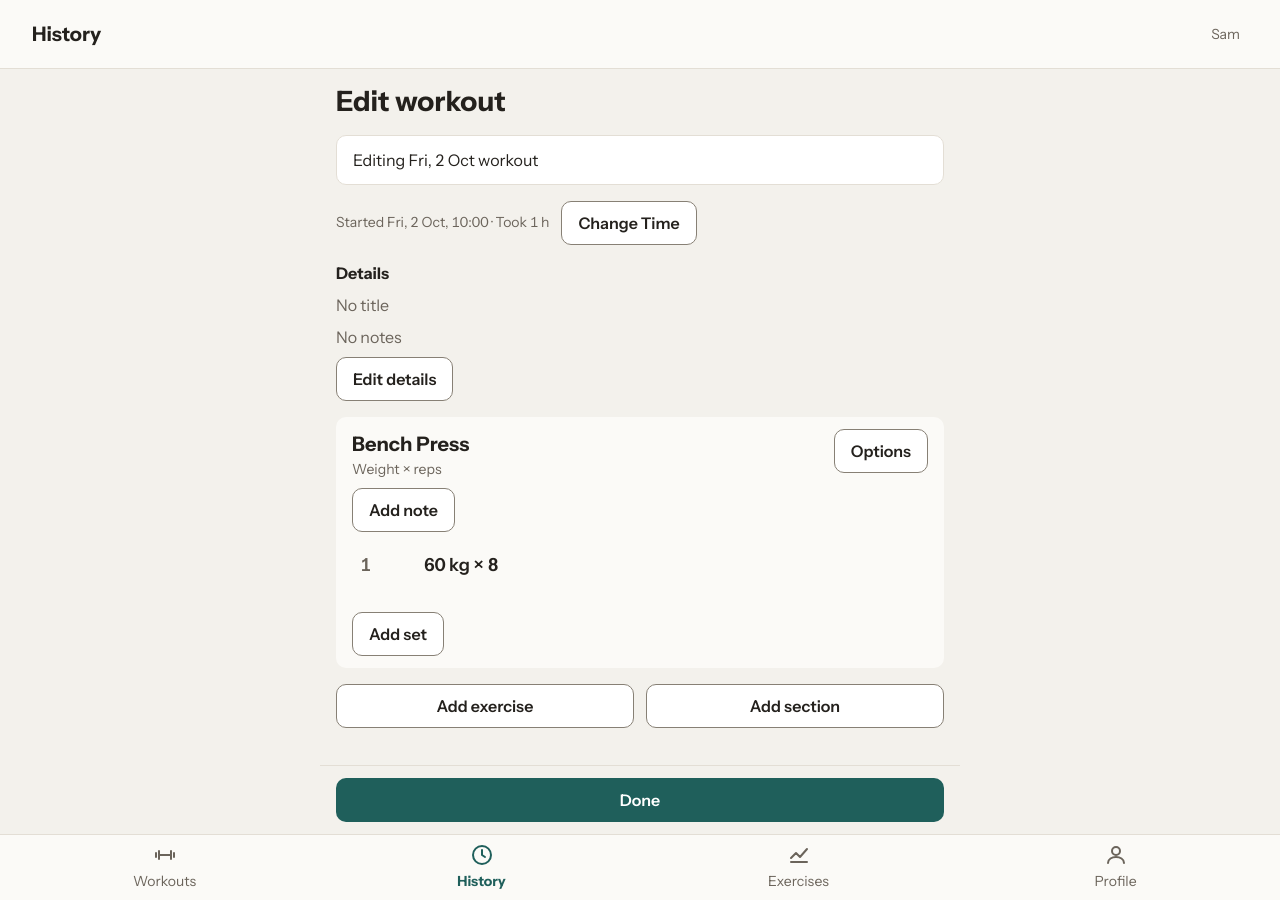
it: 18.0 AC12 — exercise notes wait for the server › DM-12 — a save in flight keeps the sheet open: Cancel, Close and Escape wait, and a failure shows in the sheet
Expected: the heading "Edit workout" is shown, [336, 84, 506, 118]
Click the button with aria-label "Add note for Bench Press".
click(403, 510)  # box [352, 488, 455, 532]
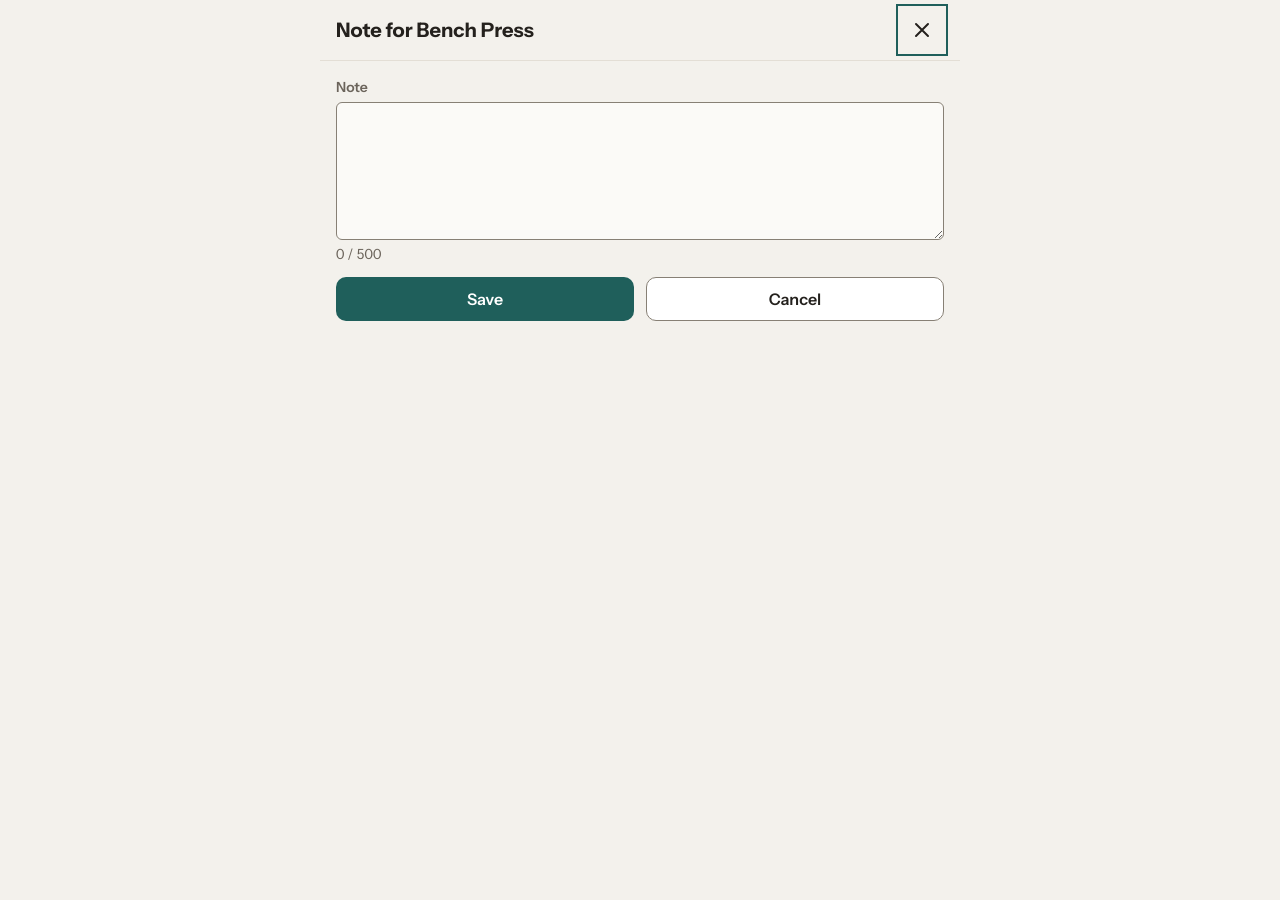
Type "Slow eccentric" into the text box labelled "Note".
click(640, 171); type("Slow eccentric")  # box [336, 102, 944, 240]
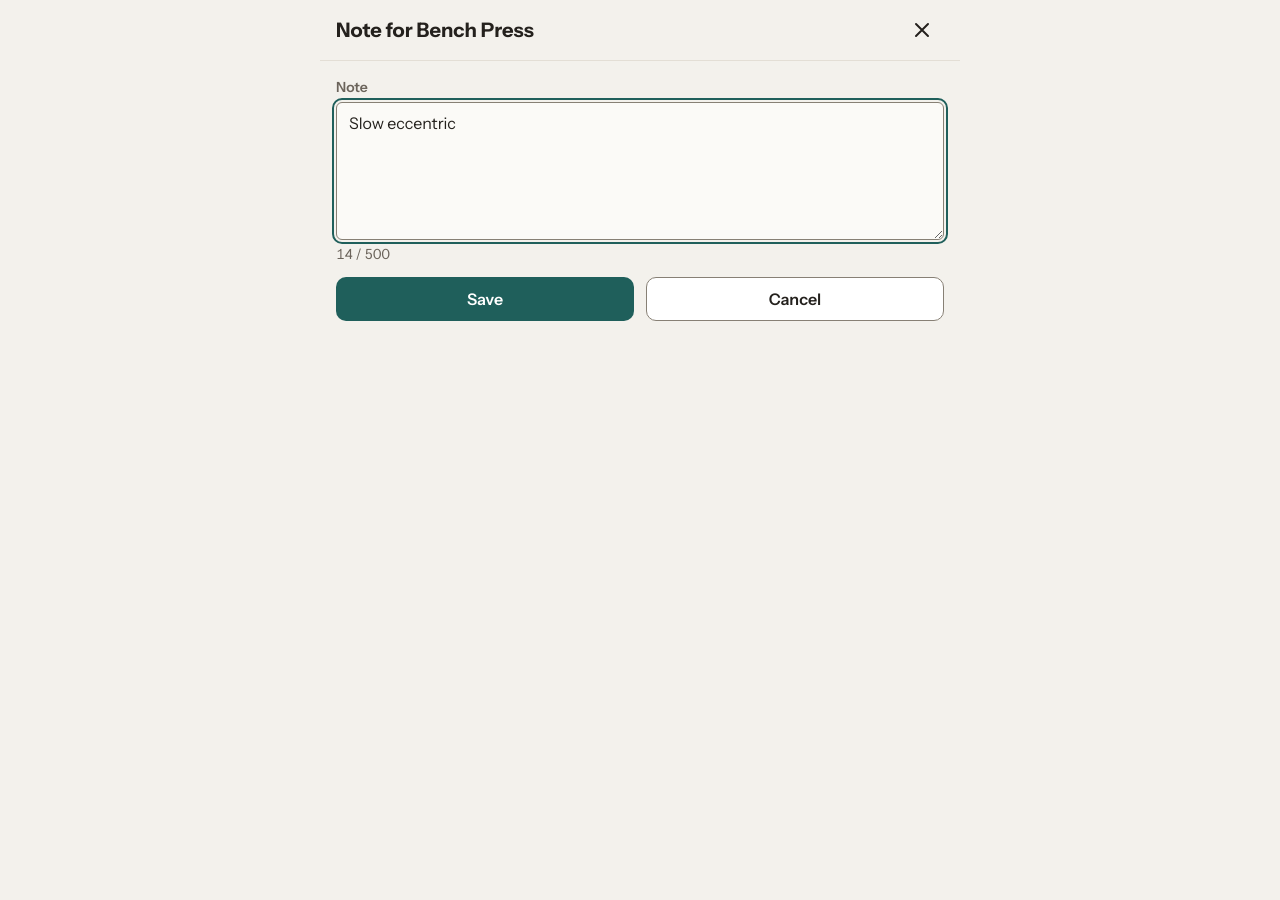
Click the button "Save".
click(485, 299)  # box [336, 277, 634, 321]
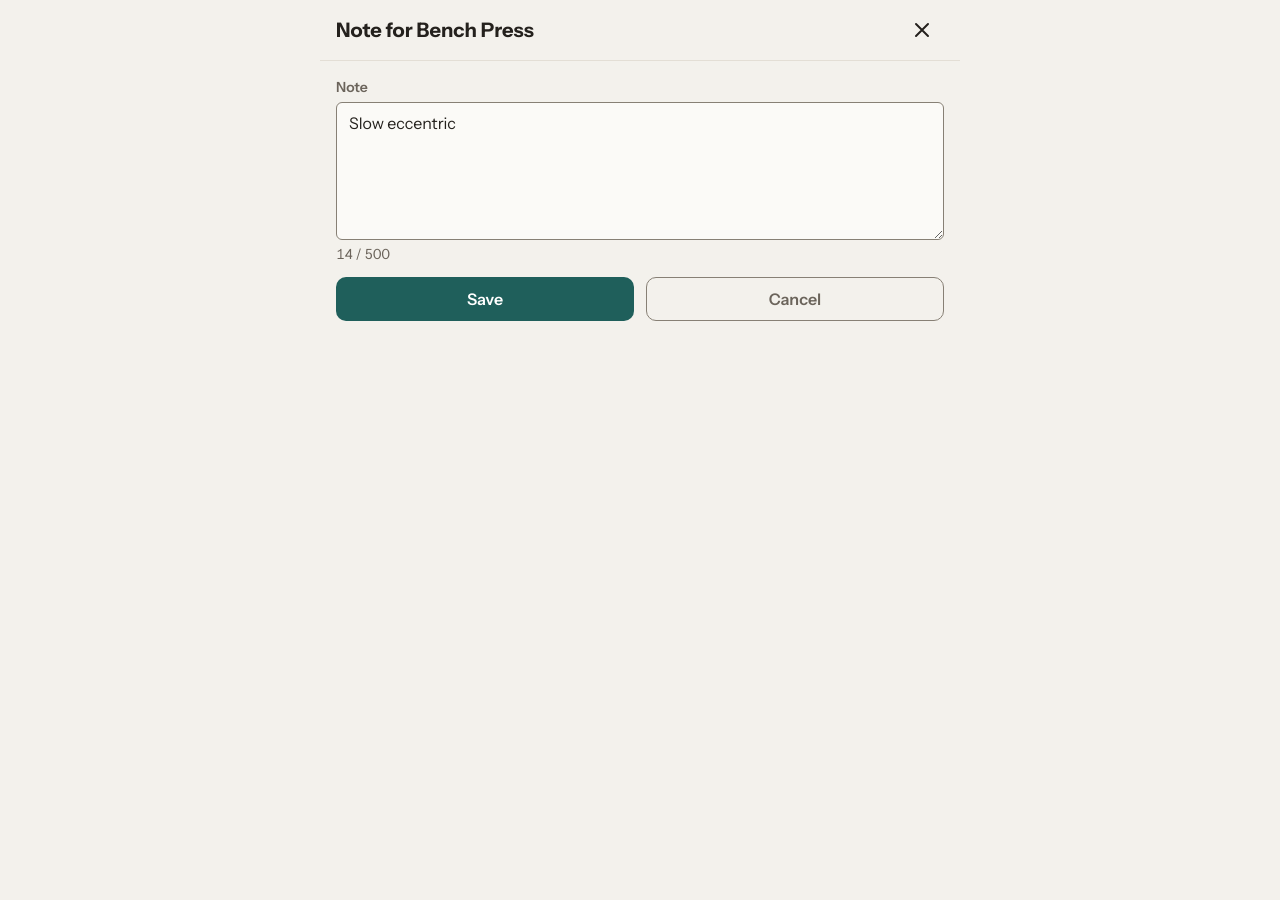
Click the button "Cancel".
click(795, 299)  # box [646, 277, 944, 321]
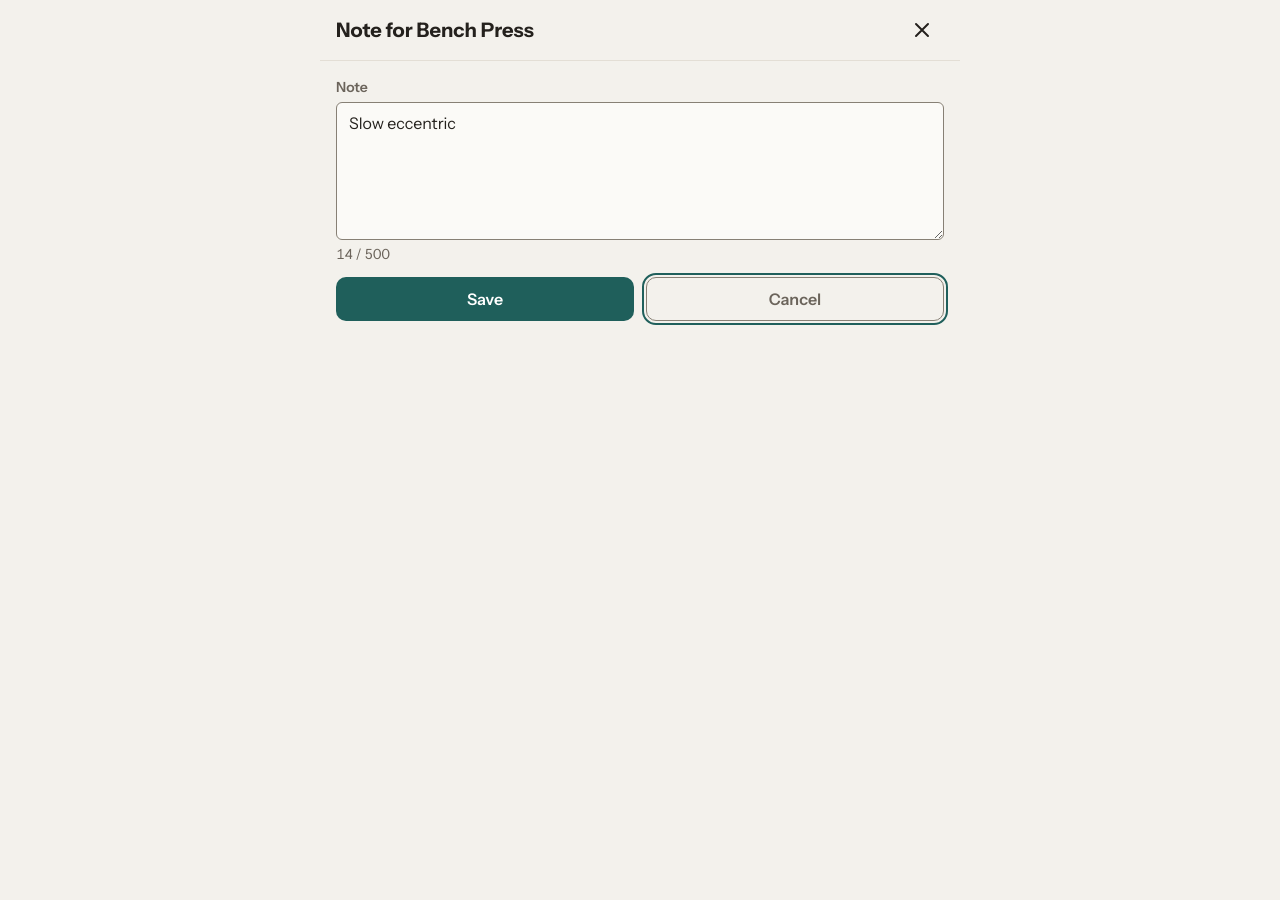
Click the button named "Close".
click(922, 30)  # box [900, 8, 944, 52]
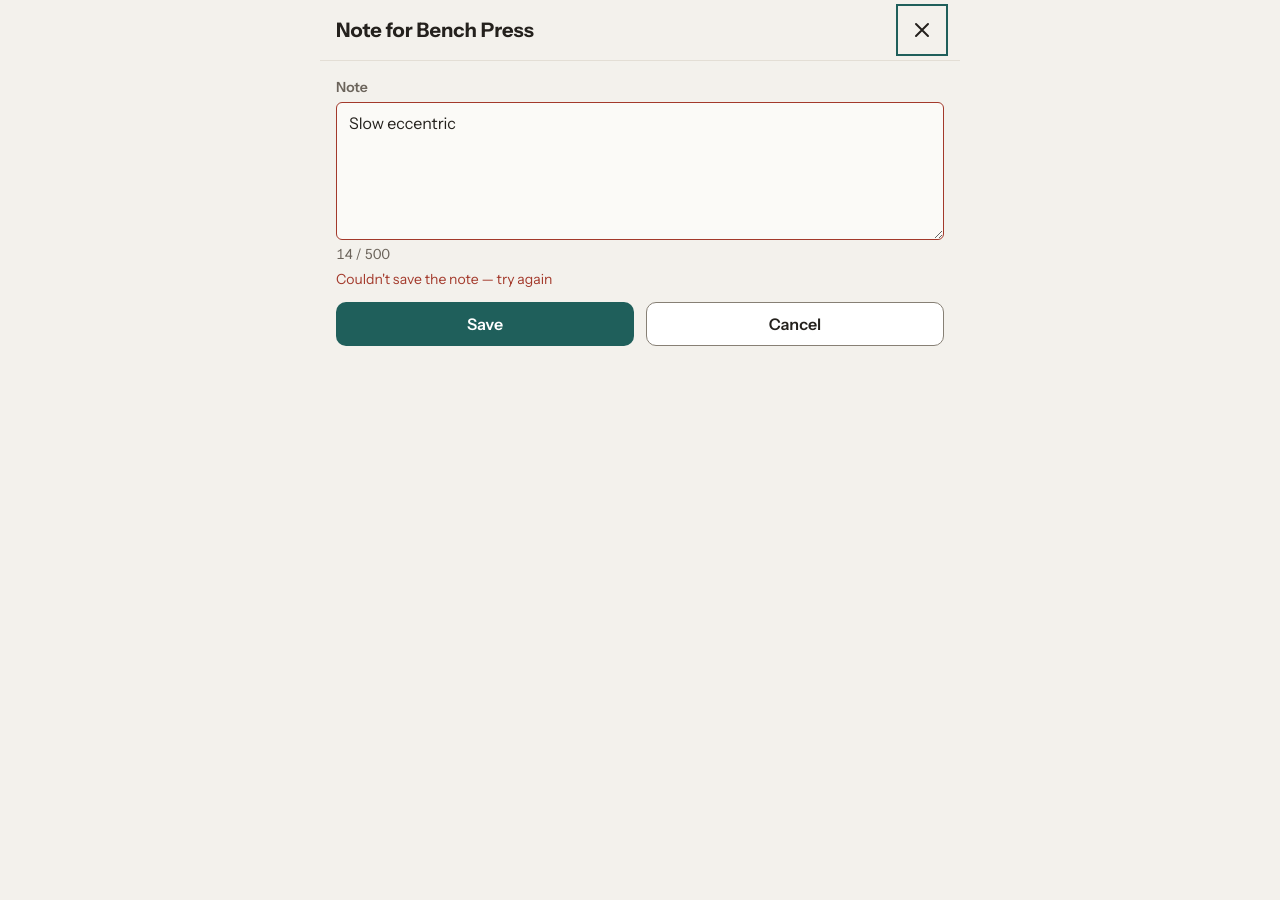
Now the dialog "Note for Bench Press" is shown, box [320, 0, 960, 899]
Now the text "Couldn't save the note — try again" is shown, box [336, 270, 552, 288]
Click the button "Cancel".
click(795, 324)  # box [646, 302, 944, 346]
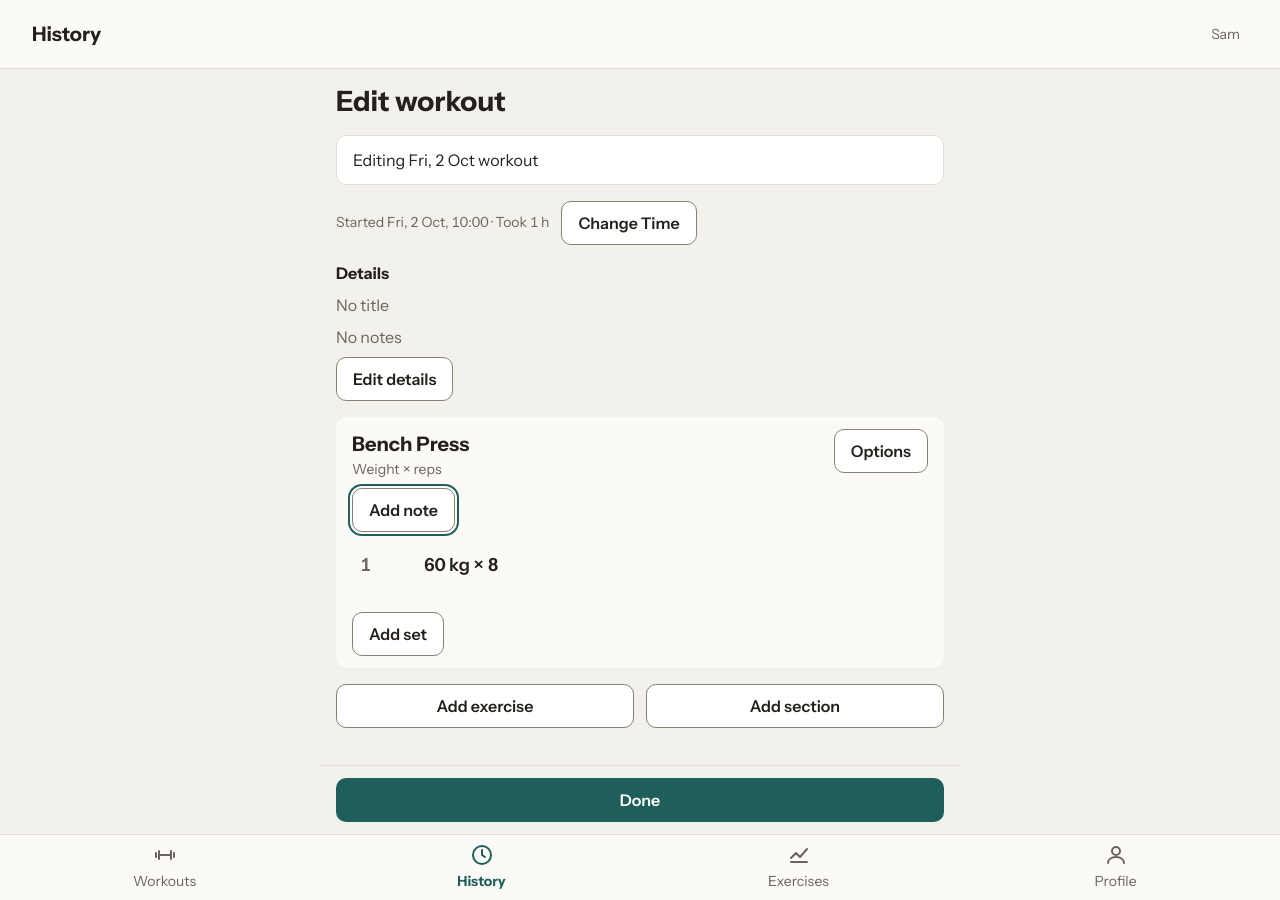
Now the heading "Note for Bench Press" is gone
